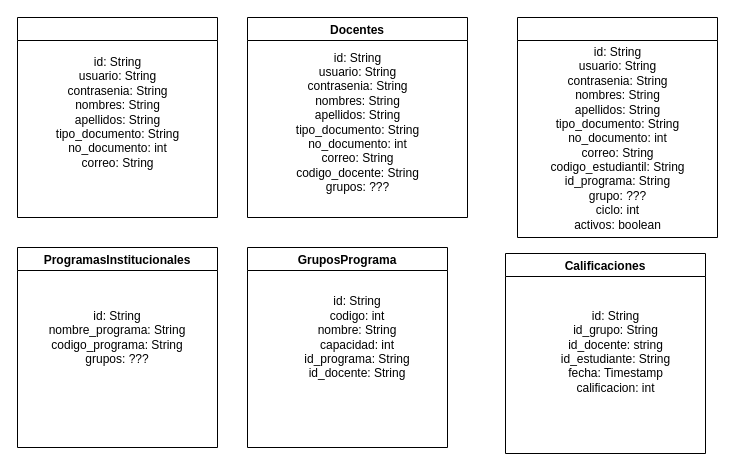
Some shapes in this 735 by 471 pixel diagram are drawn without their labels. The shapes that lost their labels are listed below. From the top down, each one's box as (x1, y1, x2, y2) in pixels, then its label:
(16, 16, 218, 218): Administradores
(516, 16, 718, 238): Estudiantes
